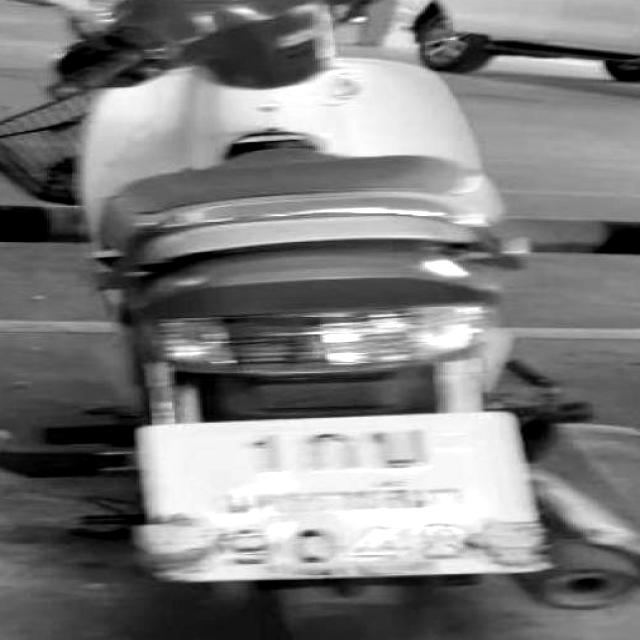letters: (310, 421, 367, 467), (379, 420, 429, 468), (417, 514, 466, 553), (290, 522, 332, 564), (253, 427, 286, 476), (361, 520, 400, 554), (229, 532, 275, 558)
license-plate: (156, 416, 520, 573)
province: (218, 477, 467, 514)
